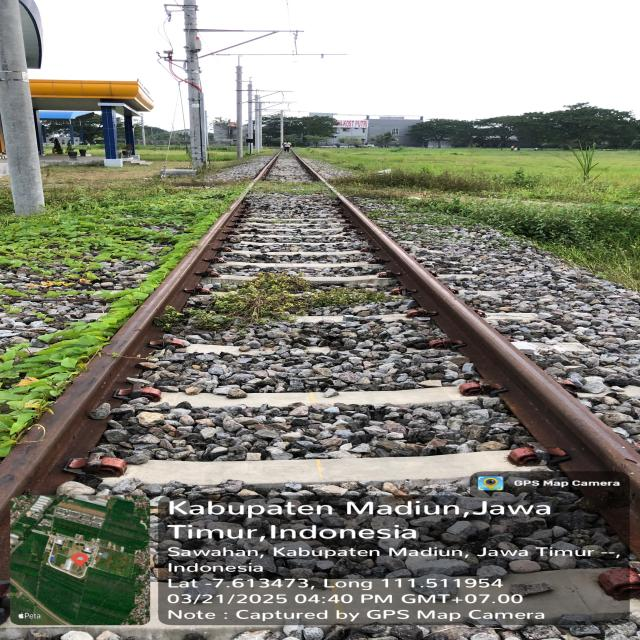rail-detection: (340, 196, 640, 558), (0, 198, 242, 515)
